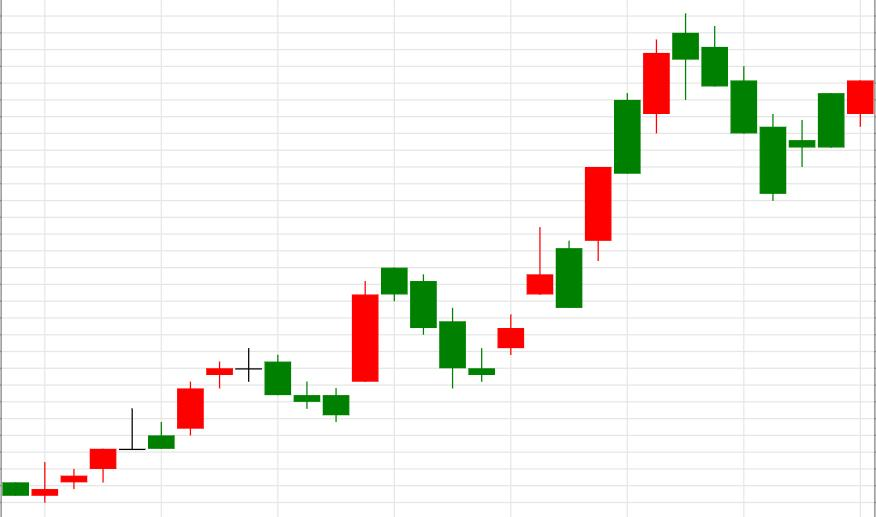three_black_crows_fall: (584, 14, 786, 261)
